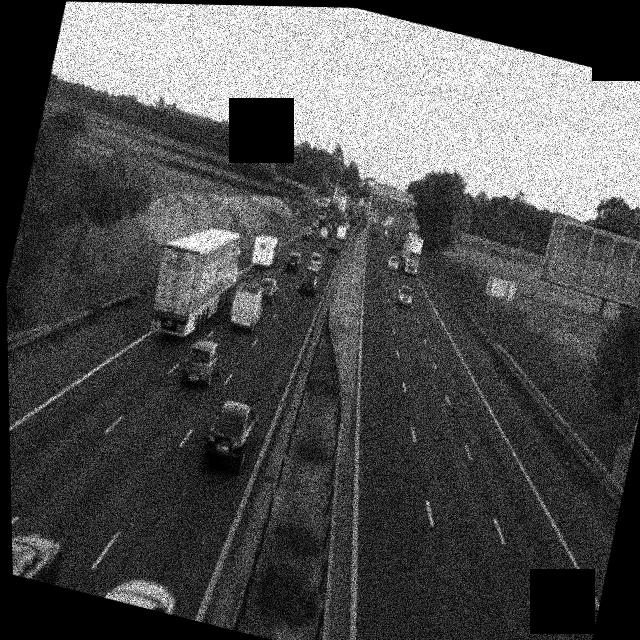car: (199, 395, 261, 477), (99, 569, 178, 615), (12, 519, 64, 585), (178, 334, 226, 390), (296, 263, 321, 297), (254, 274, 280, 305), (395, 283, 415, 309), (284, 250, 303, 275), (304, 250, 323, 273), (324, 235, 339, 253), (386, 253, 399, 271), (317, 226, 328, 242)
truck: (142, 213, 249, 347), (226, 281, 267, 334), (396, 231, 424, 276), (332, 220, 348, 243), (333, 194, 350, 215)
